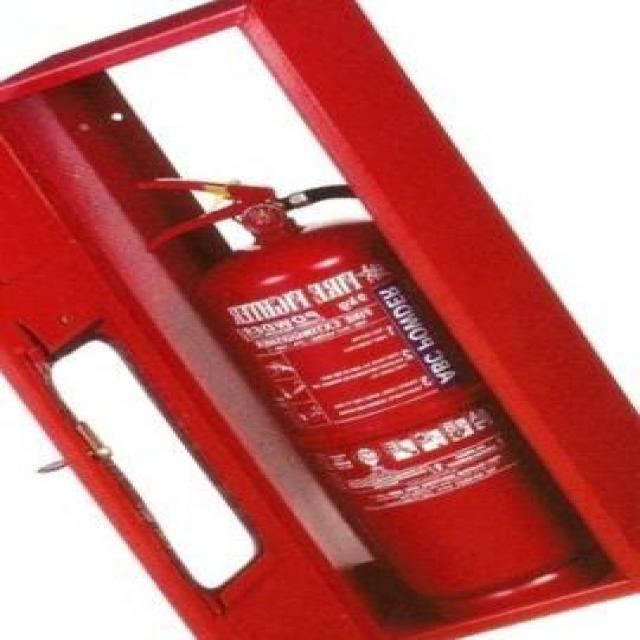fire_extinguisher: (122, 169, 629, 635)
